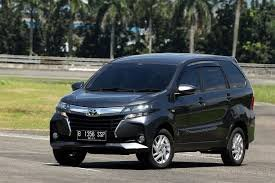mobil: (49, 48, 259, 170)
